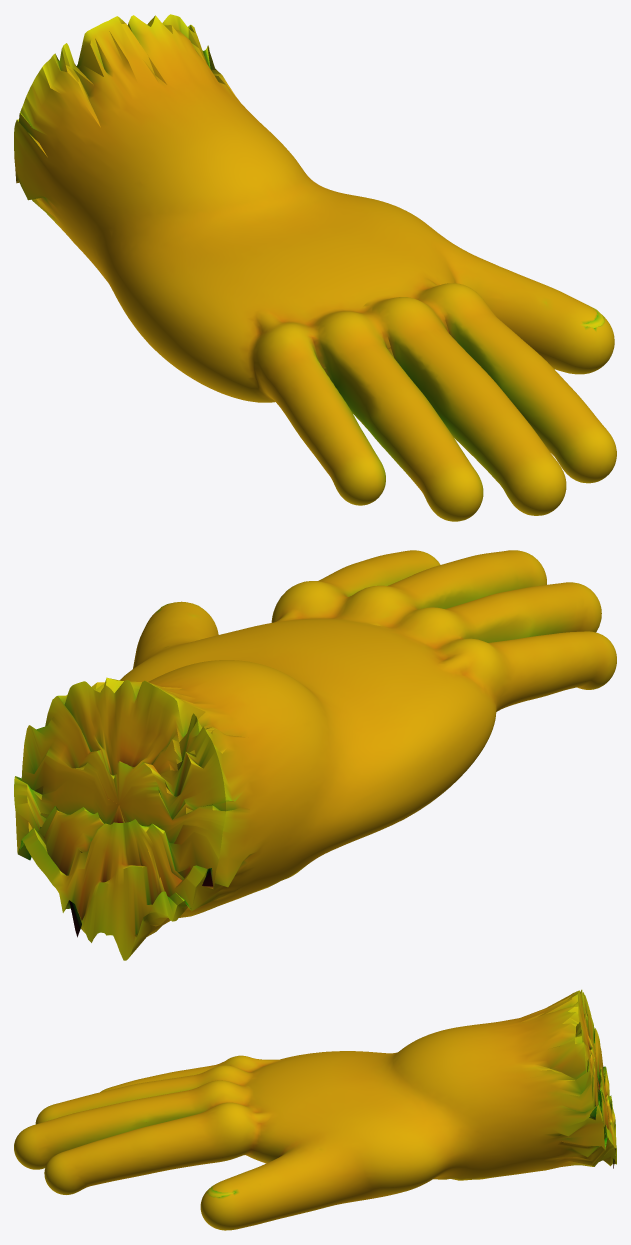
File: hand.glb
3 renders of one model, top to bottom at view 1: azimuth 30°, elevation 25°; view 2: azimuth 150°, elevation 25°; view 3: azimuth 270°, elevation 25°, orthographic. The views are drawn at different scales.
Parts seen in each view (by area): view 1: hand; view 2: hand; view 3: hand.
Part boxes in pixels (left/top/right/bottom): hand: left=14, top=14, right=616, bottom=521; hand: left=14, top=550, right=616, bottom=960; hand: left=14, top=989, right=616, bottom=1230.
Bounding box in the file's own units: 2.27 × 1.43 × 4.6.
